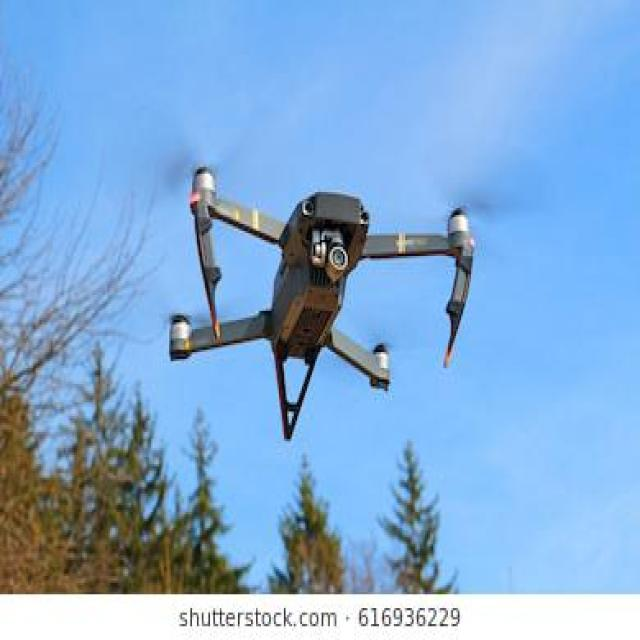drone: (103, 96, 564, 457)
